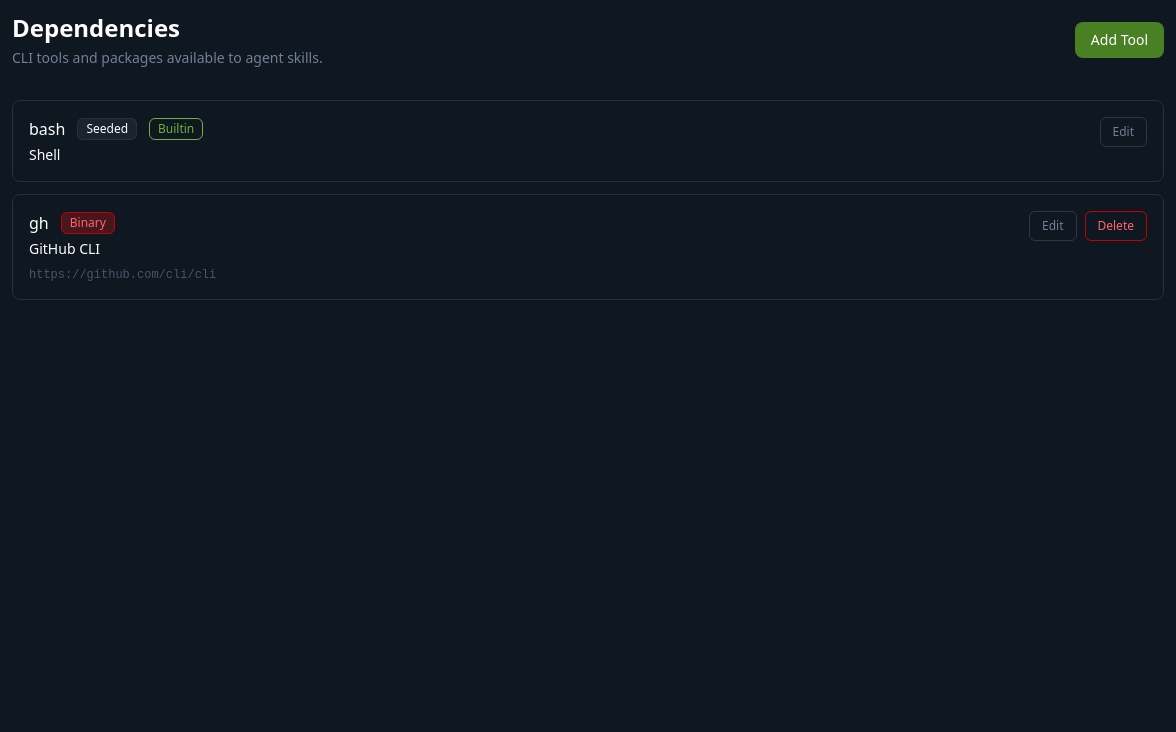
Test: ToolsClient › allows editing seeded tools
Expected: the text "bash" is shown, left=29, top=117, right=65, bottom=141
Click the button "Edit" in the row of "Builtin" at [1123, 132], box left=1100, top=117, right=1147, bottom=147
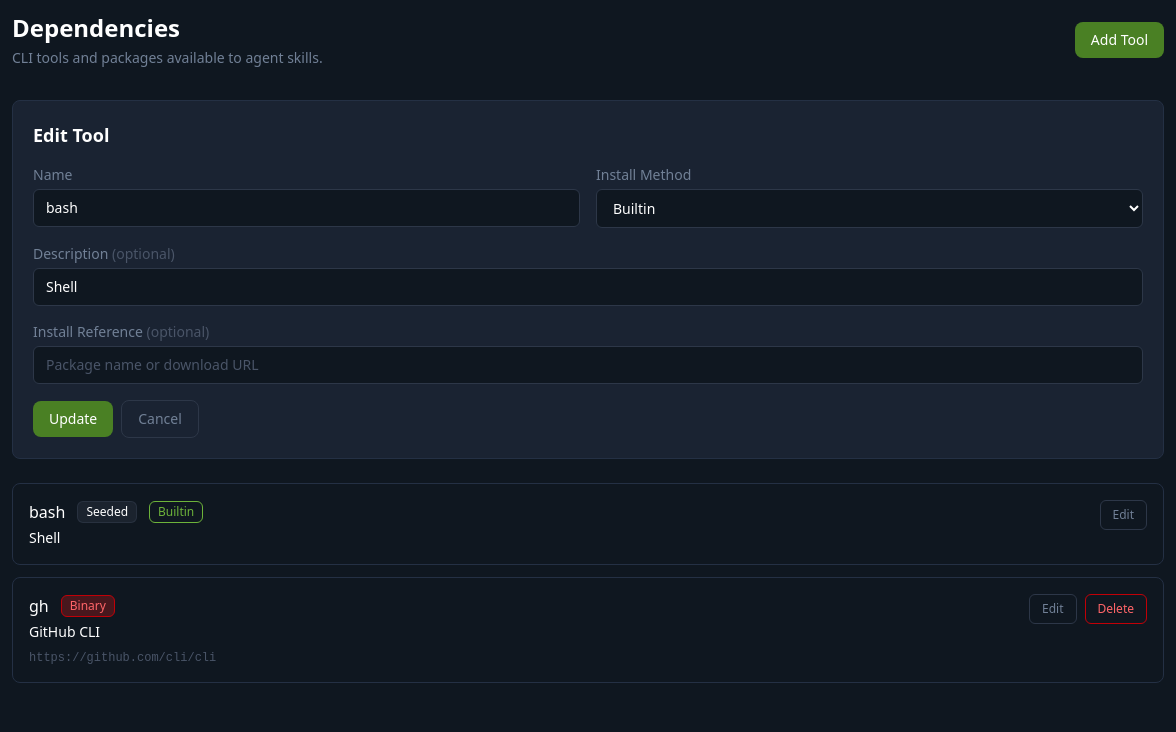
Expected: the heading "Edit Tool" is shown, left=33, top=123, right=109, bottom=147
Expected: the field with placeholder "gh" below "Name" holds "bash", left=33, top=189, right=580, bottom=227
